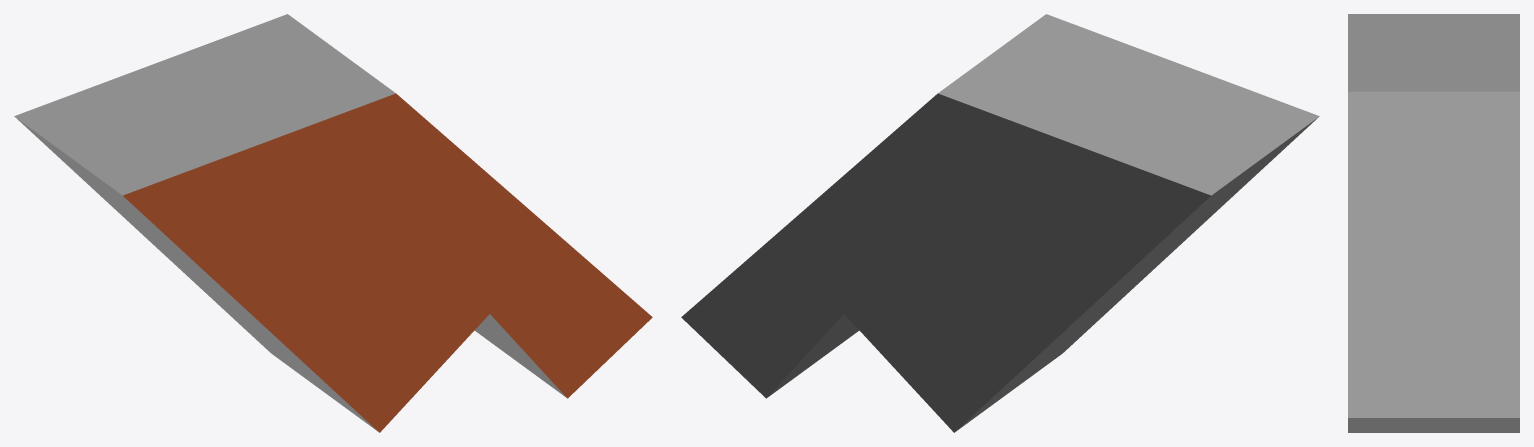
The model's file is construction_5437_assumed_A_Casa_h6m.obj.
3 renders of one model, left to right at view 1: azimuth 30°, elevation 25°; view 2: azimuth 150°, elevation 25°; view 3: azimuth 270°, elevation 25°, orthographic. The views are drawn at different scales.
Parts seen in each view (by area): view 1: construction_5437_assumed_A_Casa; view 2: construction_5437_assumed_A_Casa; view 3: construction_5437_assumed_A_Casa.
Part boxes in pixels (bbox=[...]): construction_5437_assumed_A_Casa: bbox=[14, 14, 652, 432]; construction_5437_assumed_A_Casa: bbox=[681, 14, 1319, 432]; construction_5437_assumed_A_Casa: bbox=[1348, 14, 1519, 432].
Bounding box in the file's own units: 16.93 × 10.59 × 6.
